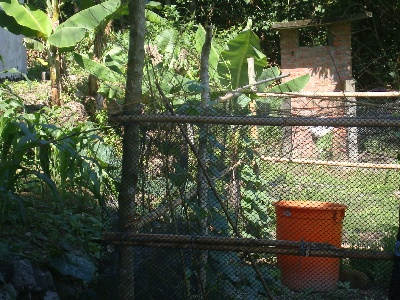bucket: (271, 198, 349, 293)
